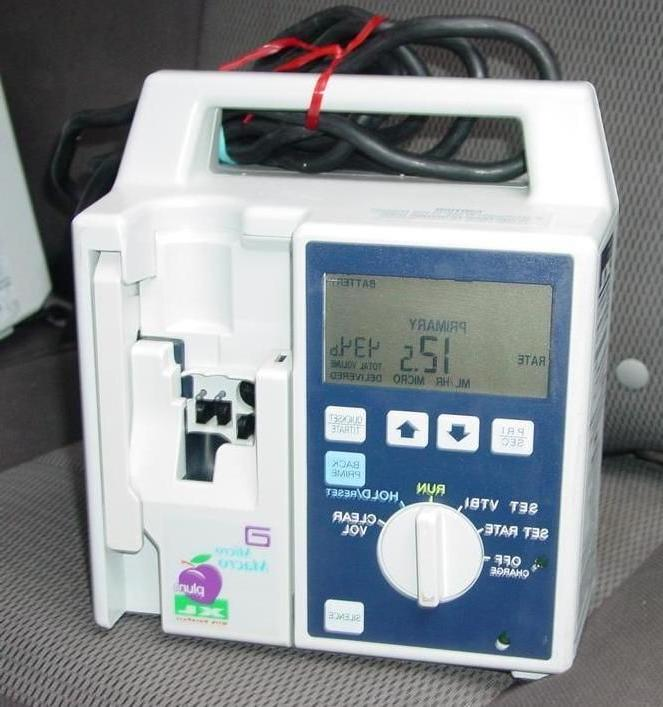plumxl1: (70, 76, 618, 678)
